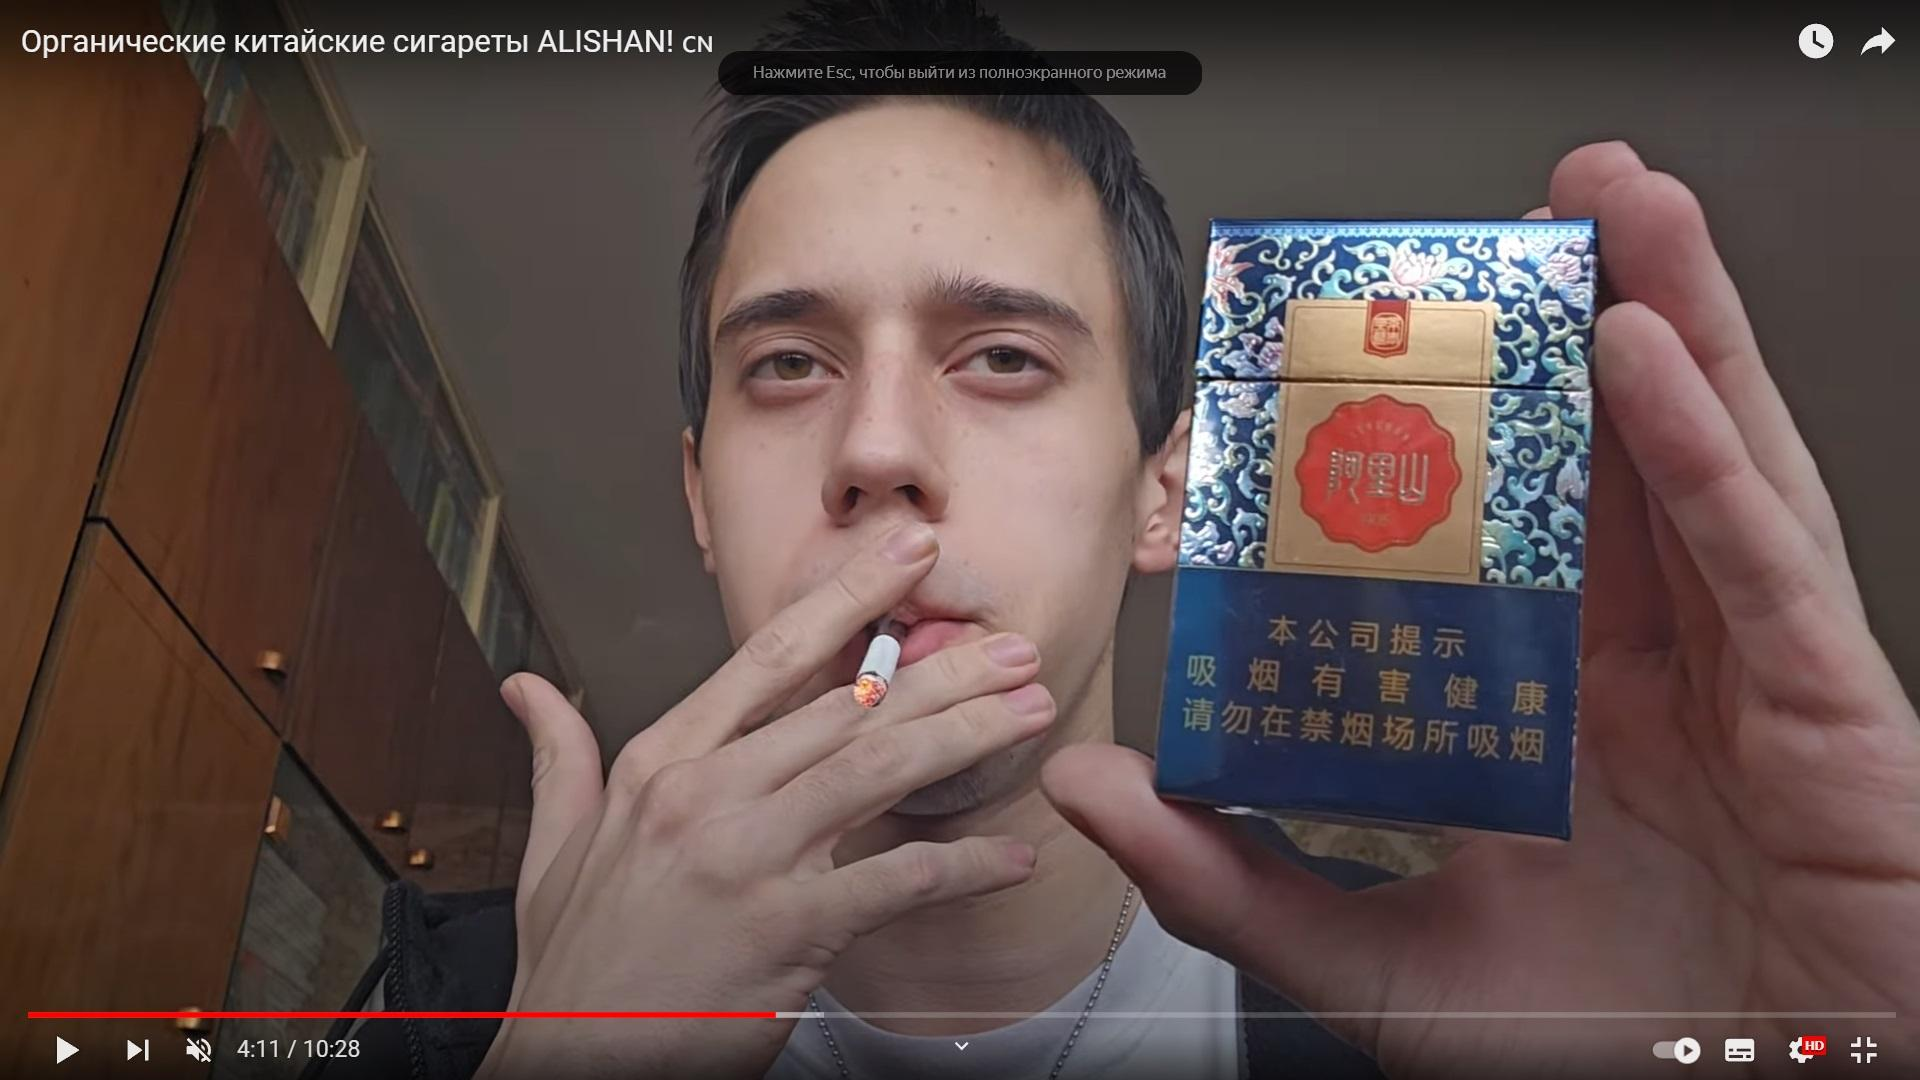cigarette: (853, 616, 910, 708)
